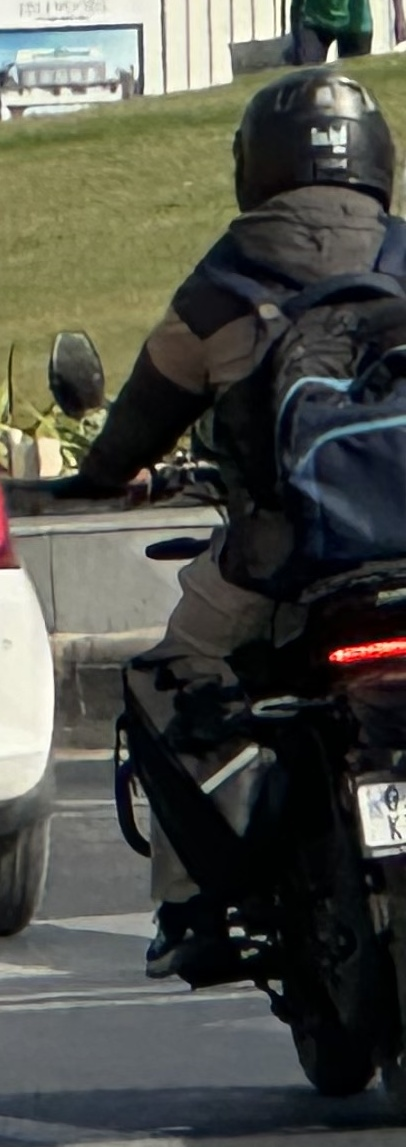BikeWithRider: (0, 51, 406, 1125)
Helmet: (213, 56, 406, 231)
